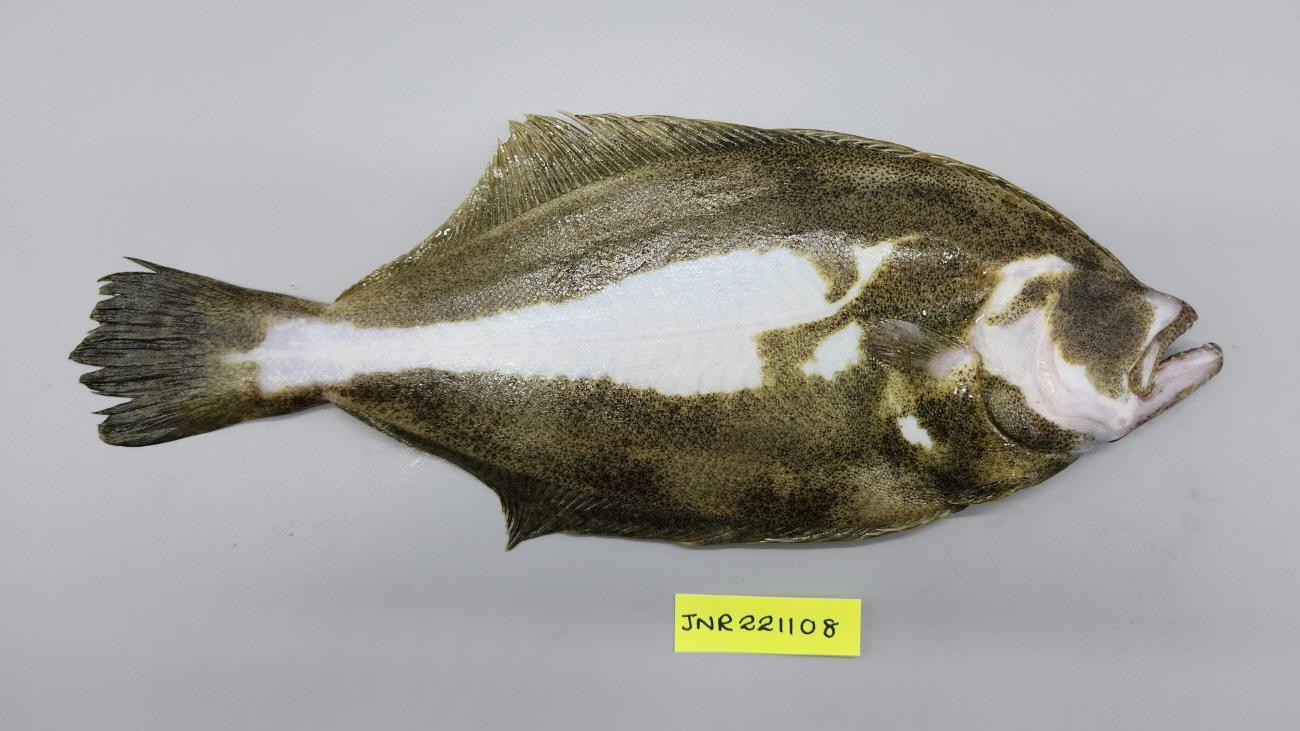POOUN: (68, 112, 1223, 552)
